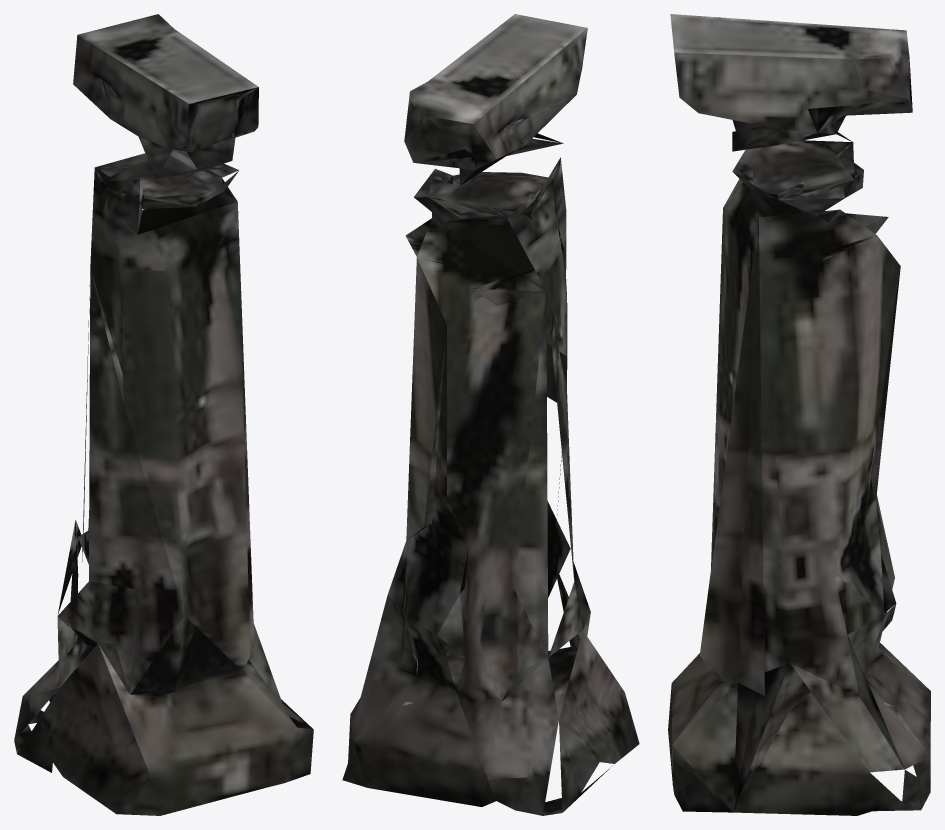
File: floodlight_55650499_lod1.glb
The picture shows the model from 3 angles, left to right: view 1: azimuth 30°, elevation 25°; view 2: azimuth 150°, elevation 25°; view 3: azimuth 270°, elevation 25°; orthographic projection. The views are drawn at different scales.
Size of the model in its own units: 1.45 by 4.4 by 1.43.
Materials: 1 (1 with a texture image).
